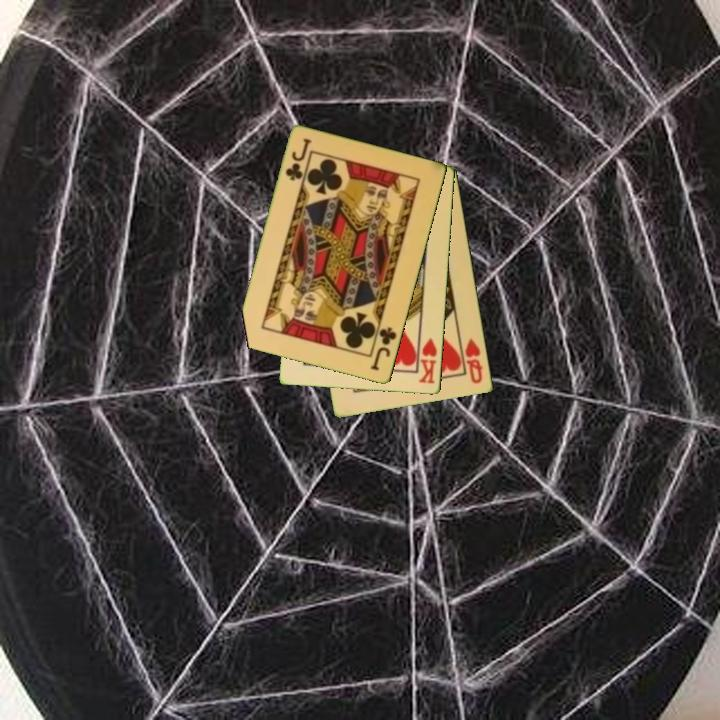Jc: (367, 324, 400, 374), (282, 135, 314, 184)
Kh: (415, 331, 440, 387)
Qh: (462, 335, 486, 387)
